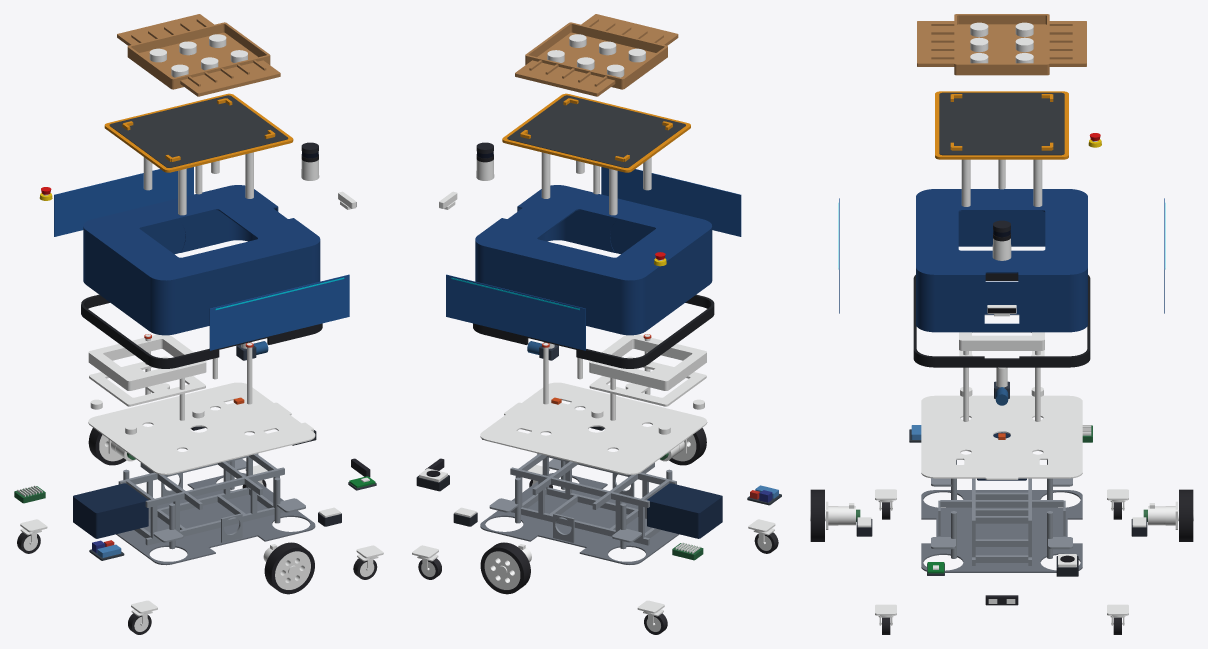
File: factory_delivery_amr_exploded.glb
The picture shows the model from 3 angles, left to right: view 1: azimuth 30°, elevation 25°; view 2: azimuth 150°, elevation 25°; view 3: azimuth 270°, elevation 25°; orthographic projection. The views are drawn at different scales.
Visible parts, largest first — view 1: body_shell_main, chassis_top_deck, payload_20kg/payload_tray_with_wings, lift_moving_assembly/anti_slip_pad, skin_panel_right/skin_panel_right_body, chassis_core/chassis_bottom_plate, skin_panel_left/skin_panel_left_body, battery_pack_48v/battery_enclosure_48v_30ah, lift_fixed_frame/lift_fixed_part_2, perimeter_bumper_ring/bumper_segment, lift_fixed_frame/lift_fixed_part_1, lift_moving_assembly/lift_platform_deck_1 (+5 smaller); view 2: body_shell_main, chassis_top_deck, payload_20kg/payload_tray_with_wings, lift_moving_assembly/anti_slip_pad, skin_panel_left/skin_panel_left_body, chassis_core/chassis_bottom_plate, skin_panel_right/skin_panel_right_body, battery_pack_48v/battery_enclosure_48v_30ah, lift_fixed_frame/lift_fixed_part_2, perimeter_bumper_ring/bumper_segment, lift_fixed_frame/lift_fixed_part_1, lift_moving_assembly/lift_platform_deck_1 (+5 smaller); view 3: body_shell_main, chassis_top_deck, payload_20kg/payload_tray_with_wings, lift_moving_assembly/anti_slip_pad, chassis_core/chassis_bottom_plate, perimeter_bumper_ring/bumper_segment, lift_moving_assembly/lift_platform_deck_1, lift_fixed_frame/lift_fixed_part_2, chassis_core/frame_beam_20, drive_module_left/left_tire, drive_module_right/right_tire.
Part boxes in pixels (box(x1,y1,x2,y2)): body_shell_main: box(83, 185, 320, 335); chassis_top_deck: box(88, 382, 315, 474); payload_20kg/payload_tray_with_wings: box(117, 14, 280, 96); lift_moving_assembly/anti_slip_pad: box(109, 95, 288, 167); skin_panel_right/skin_panel_right_body: box(209, 274, 349, 350); chassis_core/chassis_bottom_plate: box(116, 472, 315, 565); skin_panel_left/skin_panel_left_body: box(54, 167, 193, 236); battery_pack_48v/battery_enclosure_48v_30ah: box(73, 483, 148, 538); lift_fixed_frame/lift_fixed_part_2: box(88, 334, 206, 390); perimeter_bumper_ring/bumper_segment: box(81, 294, 322, 368); lift_fixed_frame/lift_fixed_part_1: box(89, 356, 205, 406); lift_moving_assembly/lift_platform_deck_1: box(104, 93, 293, 172); body_shell_main: box(475, 185, 712, 335); chassis_top_deck: box(480, 382, 707, 474); payload_20kg/payload_tray_with_wings: box(515, 14, 678, 96); lift_moving_assembly/anti_slip_pad: box(507, 95, 685, 167); skin_panel_left/skin_panel_left_body: box(446, 274, 585, 350); chassis_core/chassis_bottom_plate: box(480, 473, 679, 564); skin_panel_right/skin_panel_right_body: box(601, 167, 741, 236); battery_pack_48v/battery_enclosure_48v_30ah: box(647, 483, 722, 538); lift_fixed_frame/lift_fixed_part_2: box(589, 334, 706, 390); perimeter_bumper_ring/bumper_segment: box(473, 294, 714, 368); lift_fixed_frame/lift_fixed_part_1: box(589, 356, 706, 406); lift_moving_assembly/lift_platform_deck_1: box(502, 93, 690, 172); body_shell_main: box(916, 189, 1087, 332); chassis_top_deck: box(921, 395, 1082, 479); payload_20kg/payload_tray_with_wings: box(917, 14, 1086, 75); lift_moving_assembly/anti_slip_pad: box(939, 92, 1064, 155); chassis_core/chassis_bottom_plate: box(921, 490, 1082, 572); perimeter_bumper_ring/bumper_segment: box(913, 273, 1090, 367); lift_moving_assembly/lift_platform_deck_1: box(935, 91, 1068, 159); lift_fixed_frame/lift_fixed_part_2: box(959, 314, 1044, 350); chassis_core/frame_beam_20: box(940, 500, 1063, 507); drive_module_left/left_tire: box(1179, 489, 1193, 541); drive_module_right/right_tire: box(810, 489, 824, 541).
Size of the model in its own units: 1.55 by 2.48 by 1.6.
